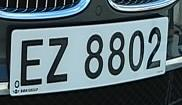0: (128, 23, 147, 76)
2: (145, 21, 164, 72)
8: (83, 31, 106, 82), (106, 29, 126, 78)
E: (17, 35, 46, 89)
Z: (44, 34, 72, 84)
